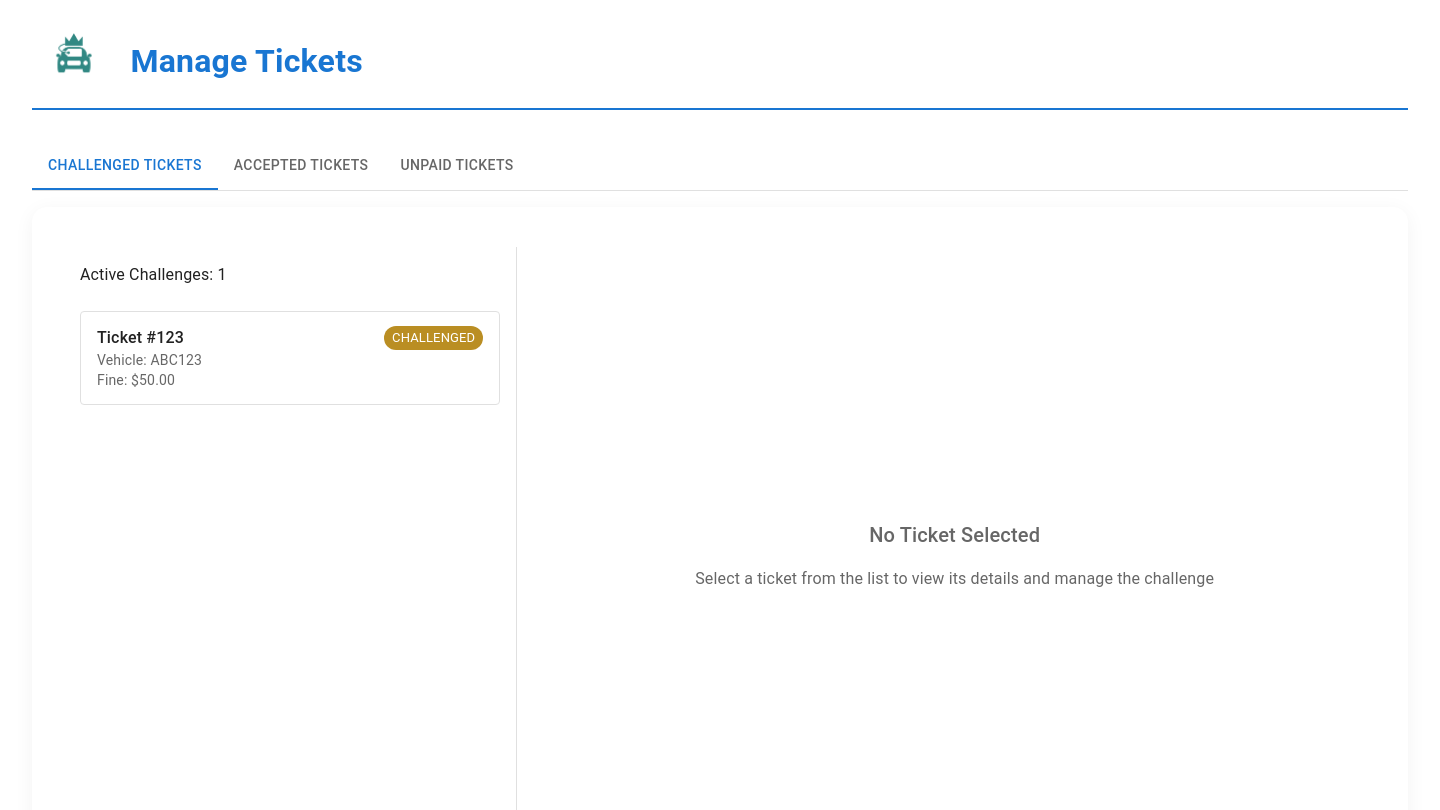
Test: switches to unpaid tickets tab
Click the tab "Unpaid Tickets" at (457, 166), box [384,142,530,190]
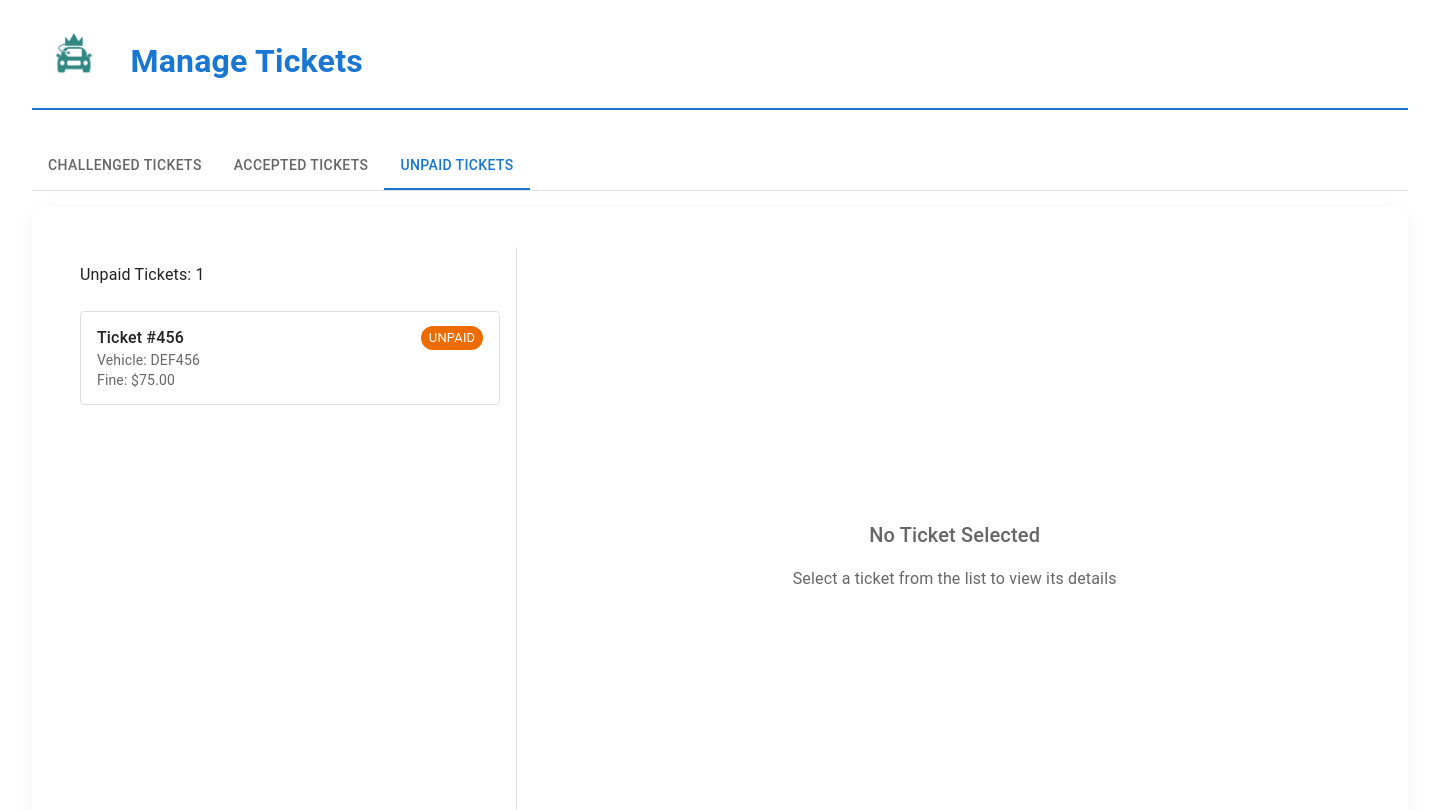
Expected: the text "Unpaid Tickets: 1" is shown, [80,265,205,284]
Expected: the text "DEF456" is shown, [150,352,200,368]
